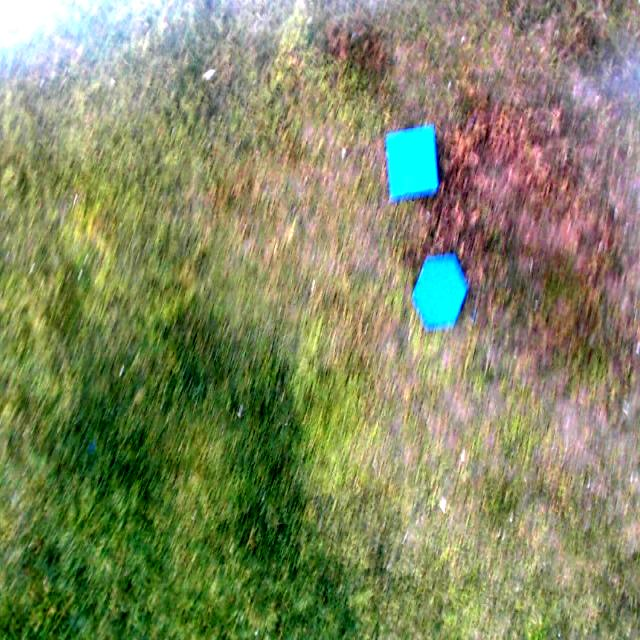blue_hexagon: (414, 252, 467, 330)
blue_square: (386, 126, 440, 196)
